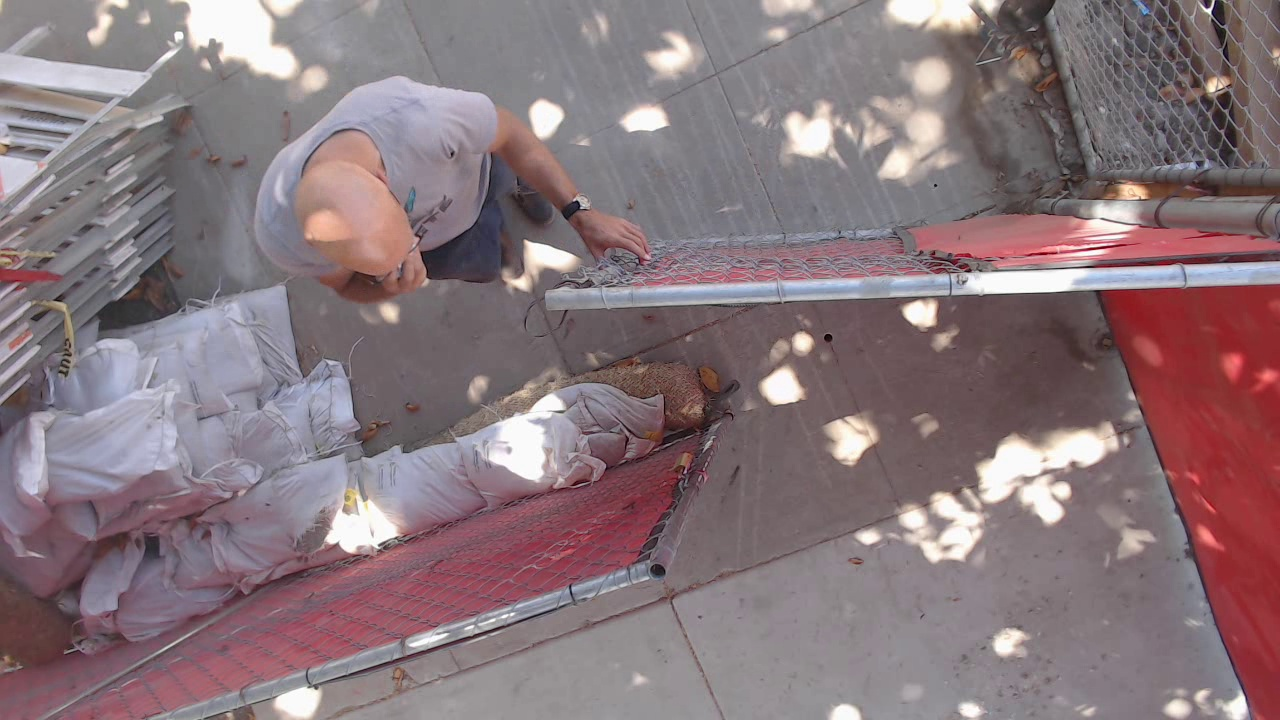person: (409, 169, 691, 366)
